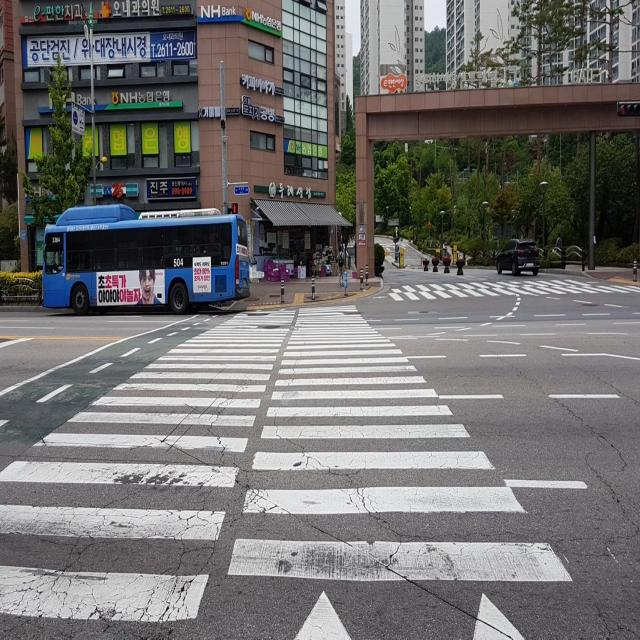횡단보도: (0, 298, 575, 640), (397, 280, 640, 298)
